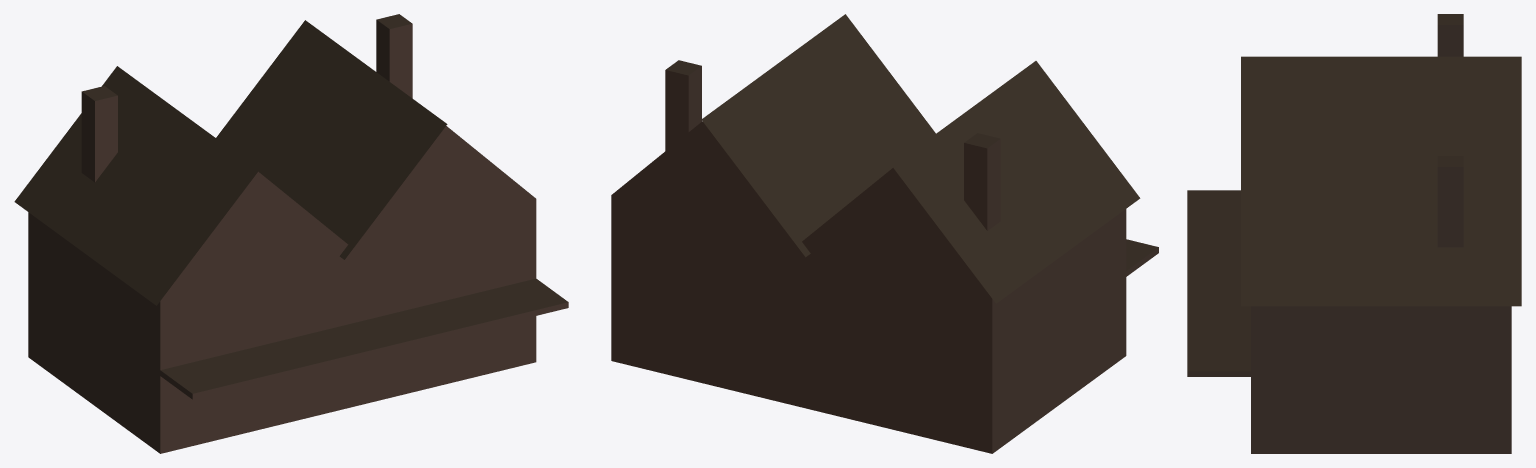
Rendered from rw-cabin-duplex.far-facades-v3.lod2.glb.
The picture shows the model from 3 angles, left to right: view 1: azimuth 30°, elevation 25°; view 2: azimuth 150°, elevation 25°; view 3: azimuth 270°, elevation 25°; orthographic projection. The views are drawn at different scales.
Visible parts, largest first — view 1: rw-cabin-duplex; view 2: rw-cabin-duplex; view 3: rw-cabin-duplex.
Part boxes in pixels (left/top/right/bottom): rw-cabin-duplex: left=14, top=14, right=568, bottom=453; rw-cabin-duplex: left=611, top=14, right=1158, bottom=453; rw-cabin-duplex: left=1187, top=14, right=1521, bottom=453.
Size of the model in its own units: 15.5 by 10.4 by 11.55.
